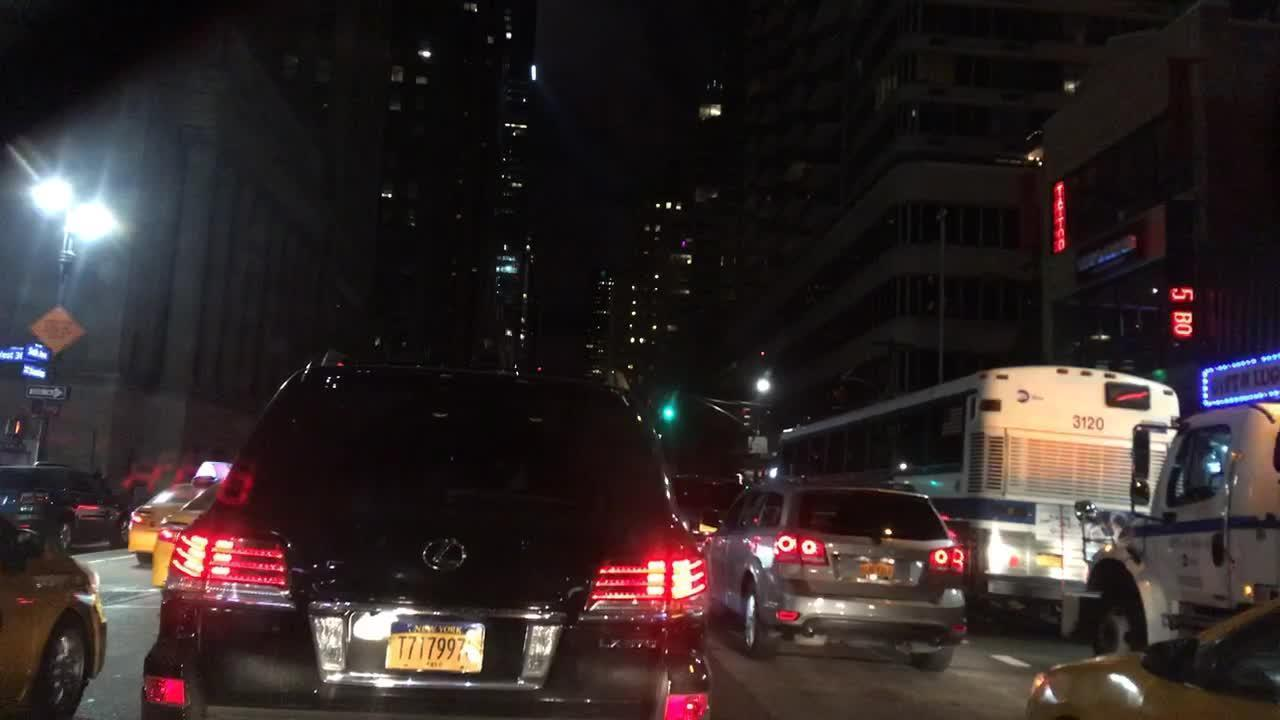lexus: (407, 529, 480, 582)
